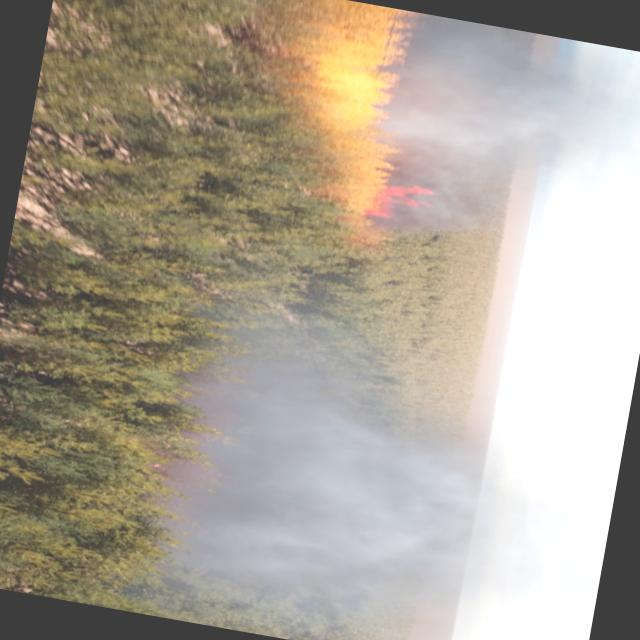fire: (350, 172, 434, 228)
smoke: (149, 289, 560, 640), (366, 9, 640, 271)
